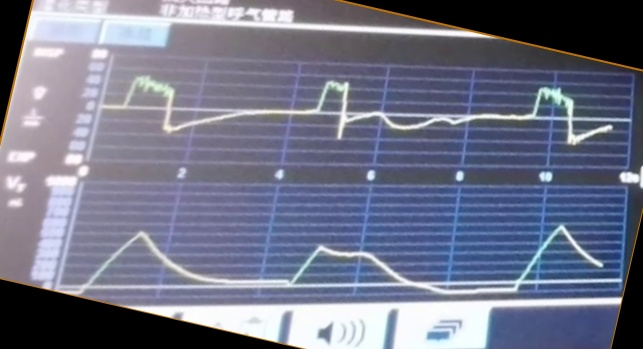Accumulation Flow: (110, 69, 616, 162)
Volume: (74, 207, 612, 297)
